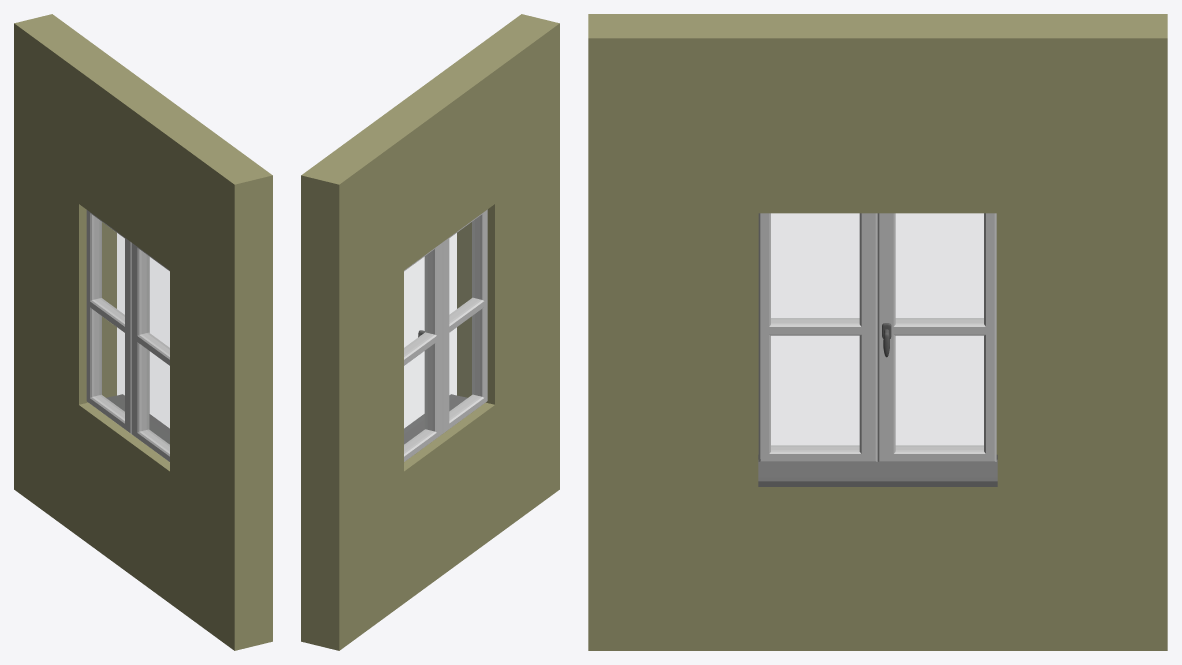
The model's file is Window_SM.fbx.
3 views of the same model, side by side, from view 1: azimuth 30°, elevation 25°; view 2: azimuth 150°, elevation 25°; view 3: azimuth 270°, elevation 25° (orthographic). The views are drawn at different scales.
Visible parts, largest first — view 1: Wall_Window; view 2: Wall_Window; view 3: Wall_Window.
Part boxes in pixels (box(x1,y1,x2,y2)): Wall_Window: box(14, 14, 272, 650); Wall_Window: box(301, 14, 559, 650); Wall_Window: box(588, 14, 1167, 650).
Bounding box in the file's own units: 34.55 × 350 × 300.
